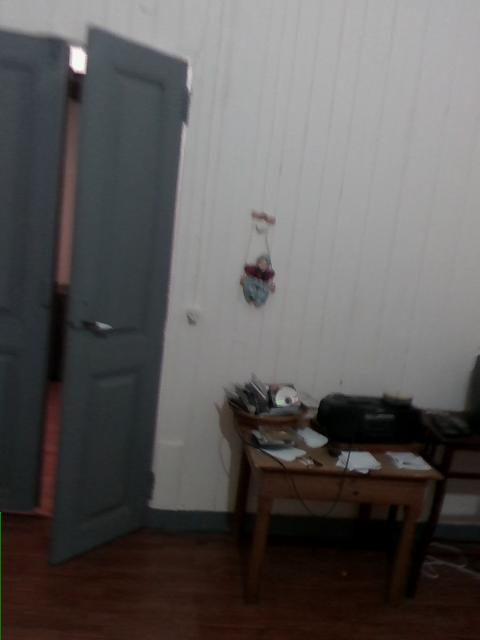semi_door: (1, 24, 190, 568)
